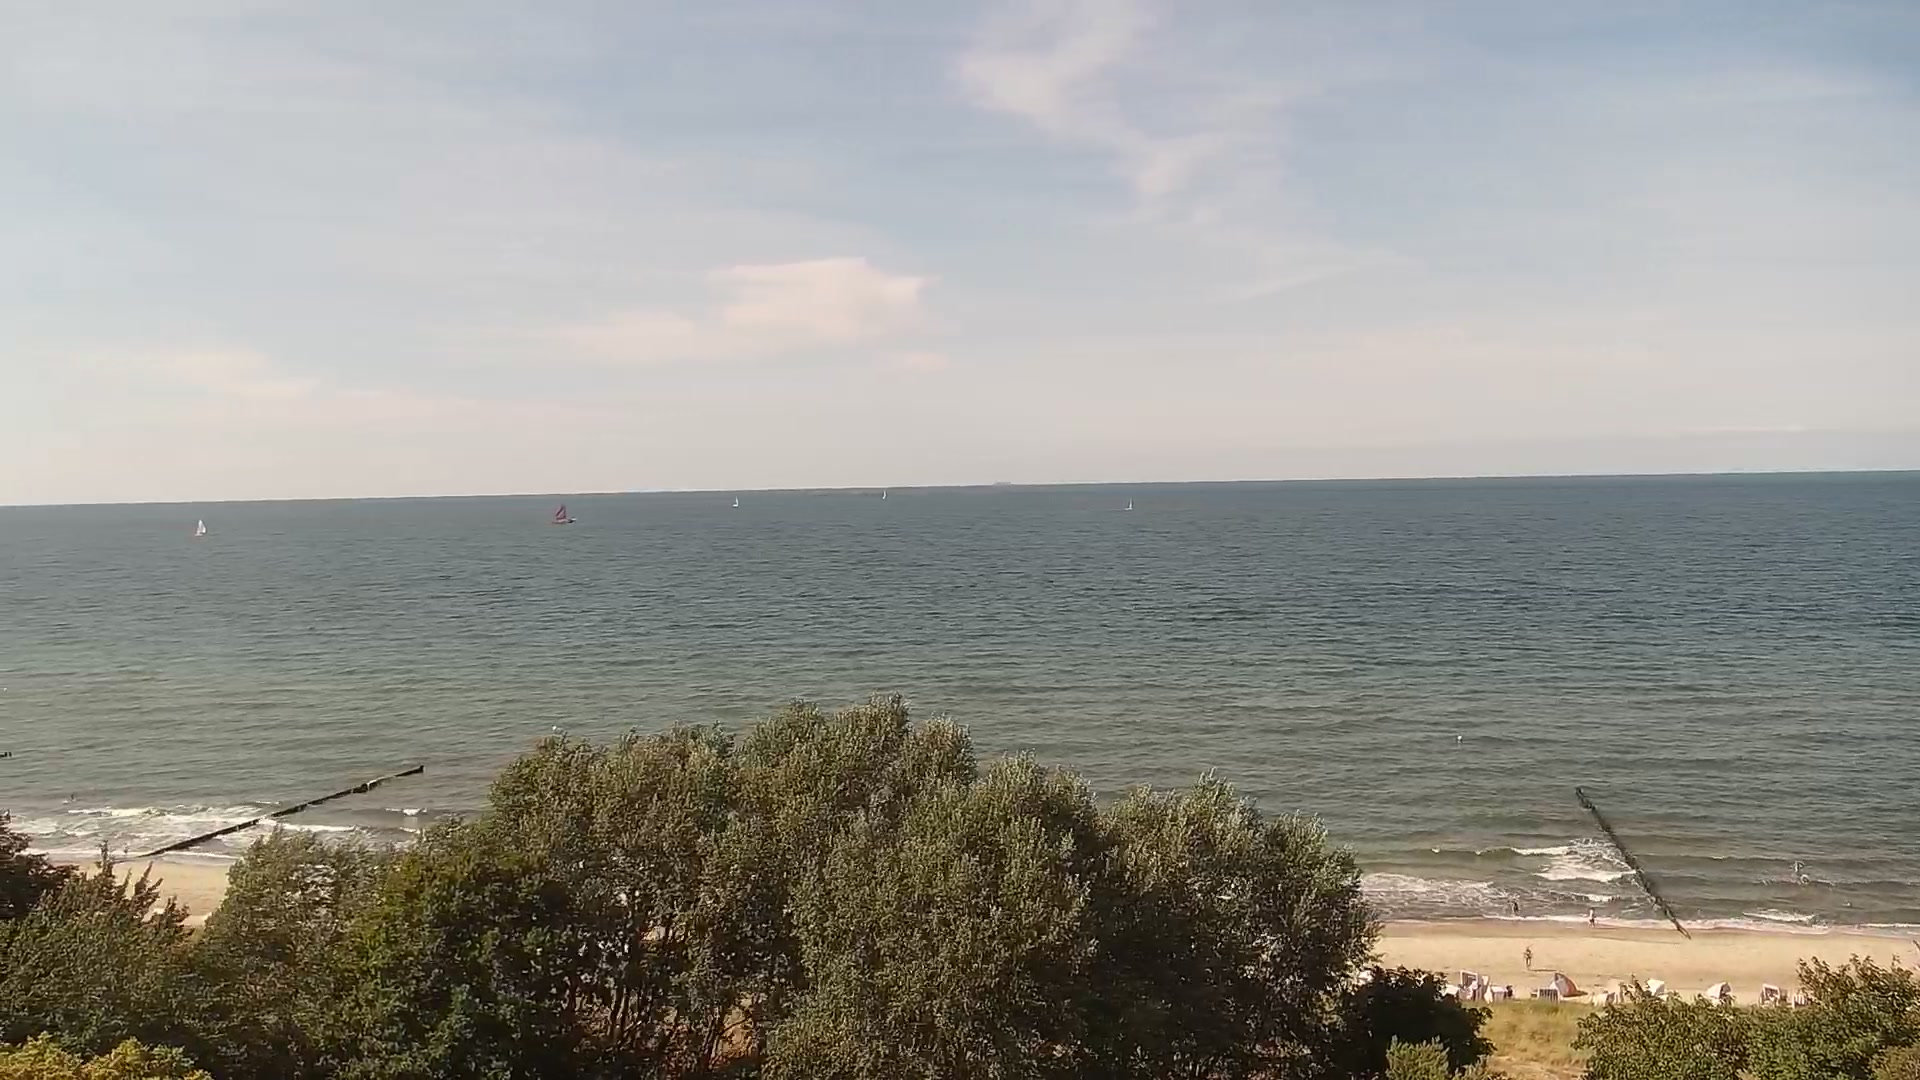human: (1522, 946, 1532, 969), (1469, 977, 1480, 999), (1587, 905, 1595, 927), (1510, 900, 1518, 919), (1505, 984, 1513, 999)
sea: (552, 502, 575, 523), (193, 519, 206, 537), (1124, 497, 1132, 511), (732, 495, 739, 507), (881, 489, 887, 500)
